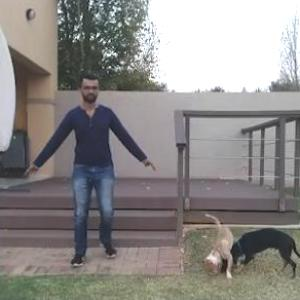land: (16, 79, 157, 272)
